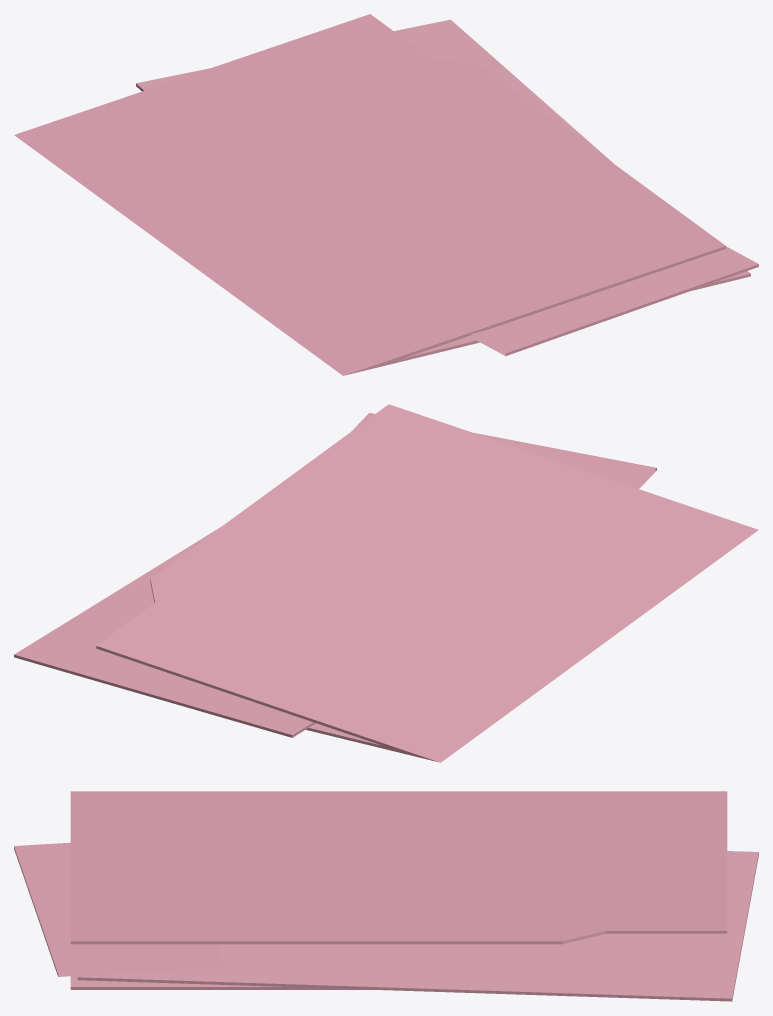
Rendered from PoliceFile.fbx.
The picture shows the model from 3 angles, top to bottom: view 1: azimuth 30°, elevation 25°; view 2: azimuth 150°, elevation 25°; view 3: azimuth 270°, elevation 25°; orthographic projection. The views are drawn at different scales.
Parts seen in each view (by area): view 1: PoliceFile; view 2: PoliceFile; view 3: PoliceFile.
Boxes of the visible parts, <box> form: PoliceFile: <box>14,14,758,375</box>; PoliceFile: <box>14,404,758,762</box>; PoliceFile: <box>14,791,758,1001</box>.
Size of the model in its own units: 29.13 by 2.32 by 42.91.
